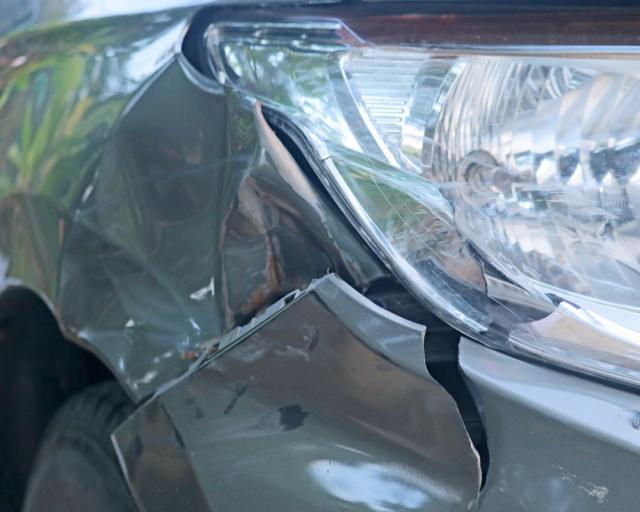crack: (421, 327, 493, 493)
dent: (55, 59, 335, 390), (169, 291, 478, 500)
